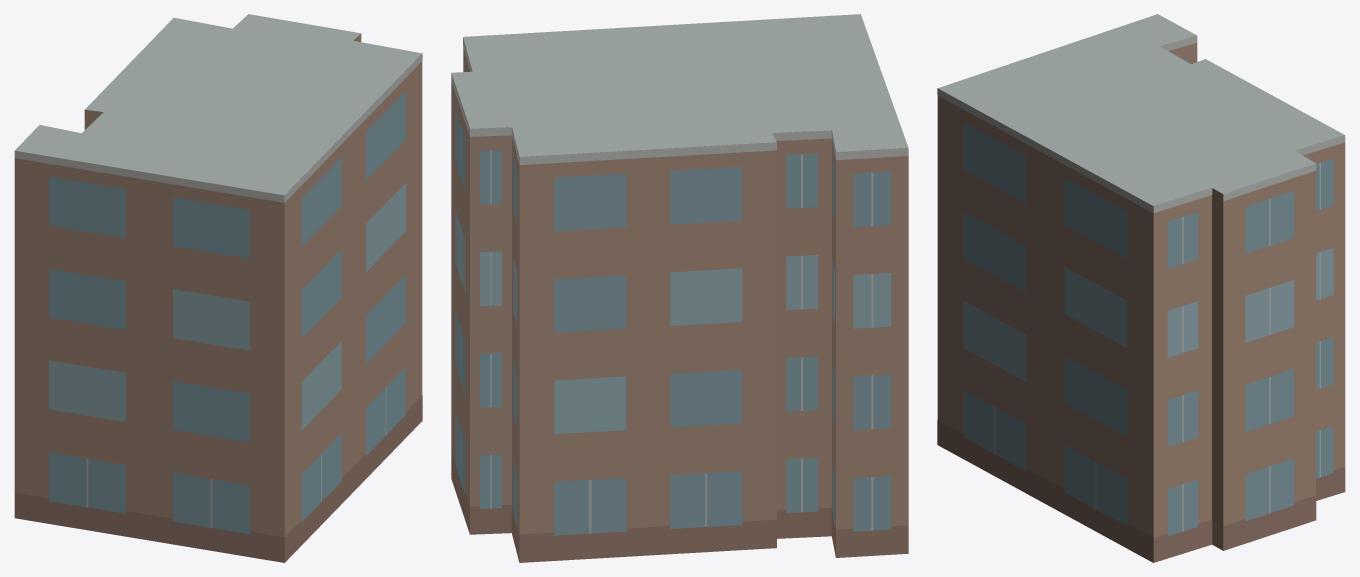
The model's file is survey-upis-32732676.glb.
3 renders of one model, left to right at view 1: azimuth 30°, elevation 25°; view 2: azimuth 150°, elevation 25°; view 3: azimuth 270°, elevation 25°, orthographic. The views are drawn at different scales.
Visible parts, largest first — view 1: survey-upis-32732676.tmp; view 2: survey-upis-32732676.tmp; view 3: survey-upis-32732676.tmp.
Part boxes in pixels (bbox=[...]): survey-upis-32732676.tmp: bbox=[14, 14, 422, 562]; survey-upis-32732676.tmp: bbox=[451, 14, 908, 562]; survey-upis-32732676.tmp: bbox=[937, 14, 1345, 562].
Size of the model in its own units: 14.1 by 12.2 by 12.65.
